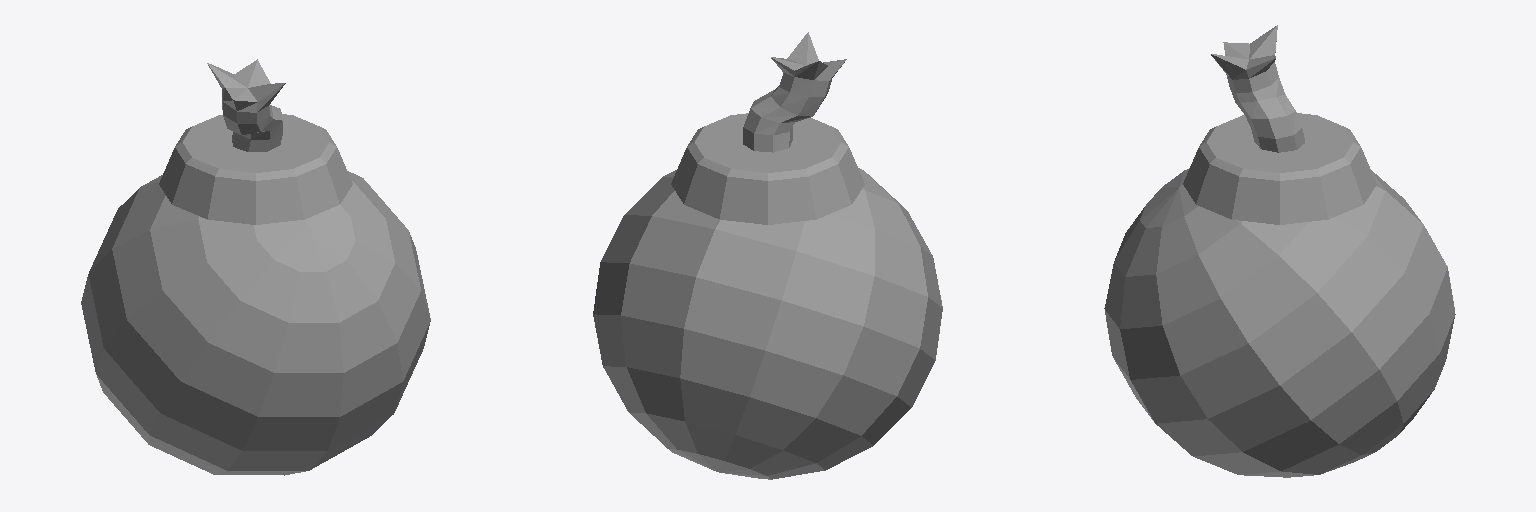
Rendered from itemBombN.obj.
3 views of the same model, side by side, from view 1: azimuth 30°, elevation 25°; view 2: azimuth 150°, elevation 25°; view 3: azimuth 270°, elevation 25° (orthographic).
Parts seen in each view (by area): view 1: mesh_ob001_bomb; view 2: mesh_ob001_bomb; view 3: mesh_ob001_bomb.
Part boxes in pixels (x1,y1,x2,y2): mesh_ob001_bomb: (81,59,430,475); mesh_ob001_bomb: (593,32,942,479); mesh_ob001_bomb: (1104,25,1455,477).
Bounding box in the file's own units: 1.97 × 2.56 × 1.97.